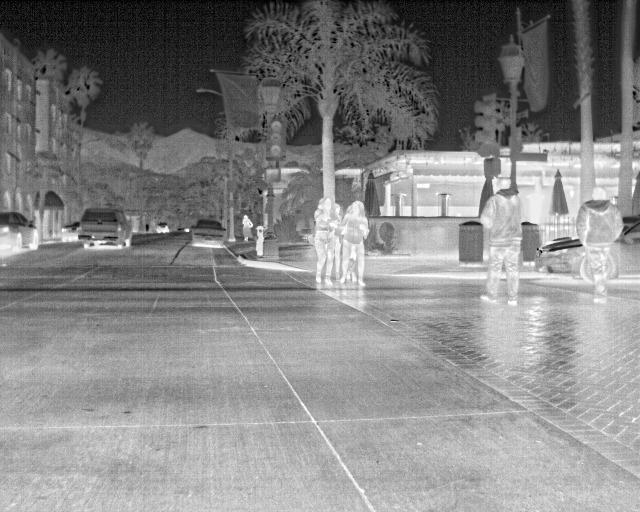bicycle: (605, 213, 639, 281), (77, 207, 131, 249), (532, 240, 584, 280), (2, 212, 42, 250), (189, 217, 227, 249), (154, 220, 171, 234)
empty: (478, 170, 524, 306), (576, 184, 625, 306), (339, 201, 369, 288), (313, 198, 340, 288), (240, 213, 254, 243)
